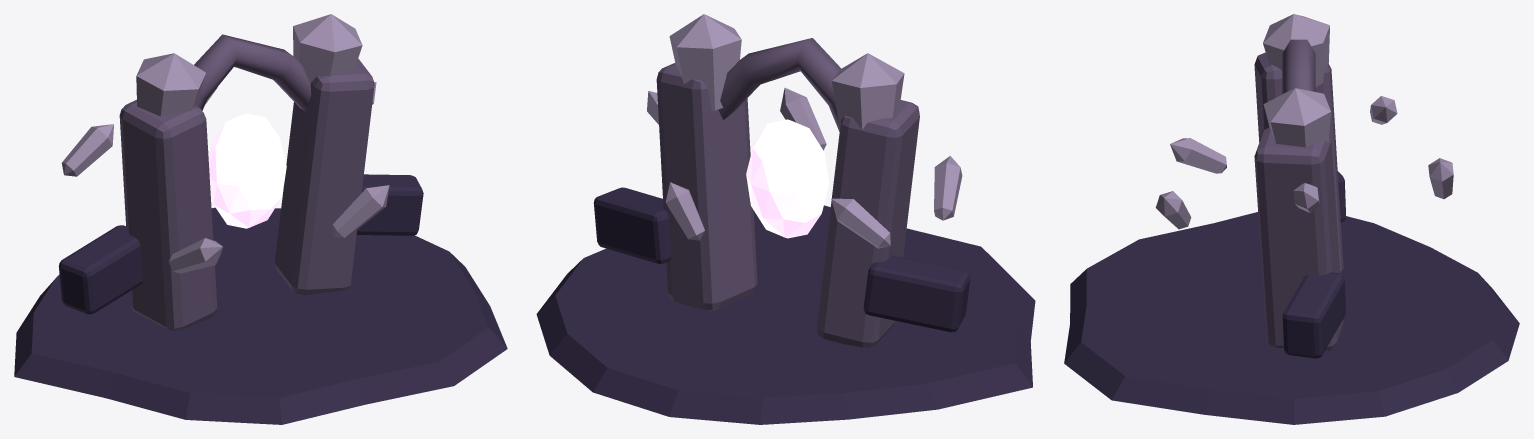
The model's file is void-scar-lod1.glb.
3 renders of one model, left to right at view 1: azimuth 30°, elevation 25°; view 2: azimuth 150°, elevation 25°; view 3: azimuth 270°, elevation 25°, orthographic. The views are drawn at different scales.
Visible parts, largest first — view 1: DARK_TERRAIN_SOCKET, STONE_SHATTERED_MONOLITH_-1, STONE_SHATTERED_MONOLITH_1, FX_CORE, DARK_MONOLITH_WING_-1, STONE_VOID_GATE_ARCH, CRYSTAL_BROKEN_CROWN_1, CRYSTAL_BROKEN_CROWN_-1, DARK_MONOLITH_WING_1, FX_FLOAT_DEBRIS_4, FX_FLOAT_DEBRIS_2, FX_FLOAT_DEBRIS_3; view 2: DARK_TERRAIN_SOCKET, STONE_SHATTERED_MONOLITH_1, STONE_SHATTERED_MONOLITH_-1, FX_CORE, DARK_MONOLITH_WING_-1, STONE_VOID_GATE_ARCH, DARK_MONOLITH_WING_1, CRYSTAL_BROKEN_CROWN_1, CRYSTAL_BROKEN_CROWN_-1, FX_FLOAT_DEBRIS_2, FX_FLOAT_DEBRIS_3, FX_FLOAT_DEBRIS_1 (+1 smaller); view 3: DARK_TERRAIN_SOCKET, STONE_SHATTERED_MONOLITH_1, DARK_MONOLITH_WING_1, CRYSTAL_BROKEN_CROWN_1, STONE_SHATTERED_MONOLITH_-1, CRYSTAL_BROKEN_CROWN_-1, STONE_VOID_GATE_ARCH, FX_FLOAT_DEBRIS_3, FX_FLOAT_DEBRIS_4, FX_FLOAT_DEBRIS_1, FX_FLOAT_DEBRIS_0, FX_FLOAT_DEBRIS_2.
Boxes of the visible parts, x1,y1,x2,y2 form: DARK_TERRAIN_SOCKET: (14,207,507,424); STONE_SHATTERED_MONOLITH_-1: (119,99,217,330); STONE_SHATTERED_MONOLITH_1: (274,58,374,295); FX_CORE: (208,113,286,228); DARK_MONOLITH_WING_-1: (58,225,143,314); STONE_VOID_GATE_ARCH: (194,34,311,111); CRYSTAL_BROKEN_CROWN_1: (293,14,362,84); CRYSTAL_BROKEN_CROWN_-1: (136,53,205,116); DARK_MONOLITH_WING_1: (356,174,423,235); FX_FLOAT_DEBRIS_4: (332,185,389,237); FX_FLOAT_DEBRIS_2: (61,124,113,176); FX_FLOAT_DEBRIS_3: (169,238,222,273); DARK_TERRAIN_SOCKET: (536,205,1035,424); STONE_SHATTERED_MONOLITH_1: (656,63,757,310); STONE_SHATTERED_MONOLITH_-1: (816,100,919,347); FX_CORE: (746,119,829,238); DARK_MONOLITH_WING_-1: (863,255,970,332); STONE_VOID_GATE_ARCH: (718,38,841,131); DARK_MONOLITH_WING_1: (593,187,671,264); CRYSTAL_BROKEN_CROWN_1: (669,14,741,110); CRYSTAL_BROKEN_CROWN_-1: (831,53,904,129); FX_FLOAT_DEBRIS_2: (831,198,890,248); FX_FLOAT_DEBRIS_3: (934,155,962,220); FX_FLOAT_DEBRIS_1: (665,182,704,240); DARK_TERRAIN_SOCKET: (1064,212,1519,424); STONE_SHATTERED_MONOLITH_1: (1254,127,1343,350); DARK_MONOLITH_WING_1: (1282,272,1345,358); CRYSTAL_BROKEN_CROWN_1: (1263,88,1330,147); STONE_SHATTERED_MONOLITH_-1: (1254,52,1343,273); CRYSTAL_BROKEN_CROWN_-1: (1263,14,1329,87); STONE_VOID_GATE_ARCH: (1282,39,1315,93); FX_FLOAT_DEBRIS_3: (1170,138,1226,173); FX_FLOAT_DEBRIS_4: (1155,191,1191,229); FX_FLOAT_DEBRIS_1: (1428,158,1453,199); FX_FLOAT_DEBRIS_0: (1293,183,1319,212); FX_FLOAT_DEBRIS_2: (1370,96,1397,124).
Size of the model in its own units: 1.96 by 1.19 by 1.79.
